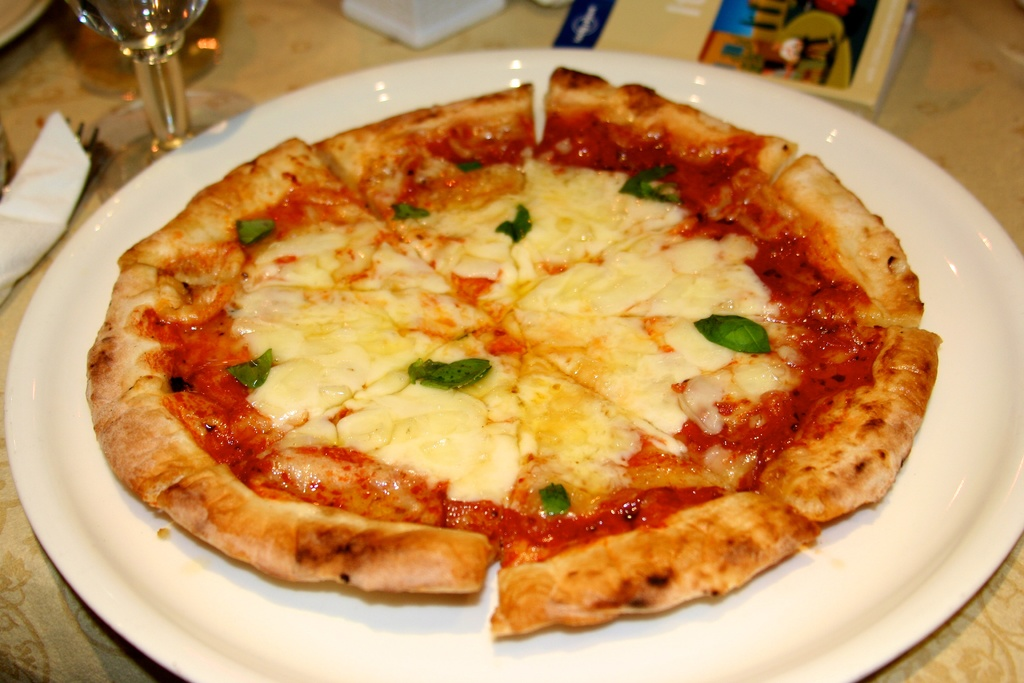Pizza: (67, 76, 939, 647)
